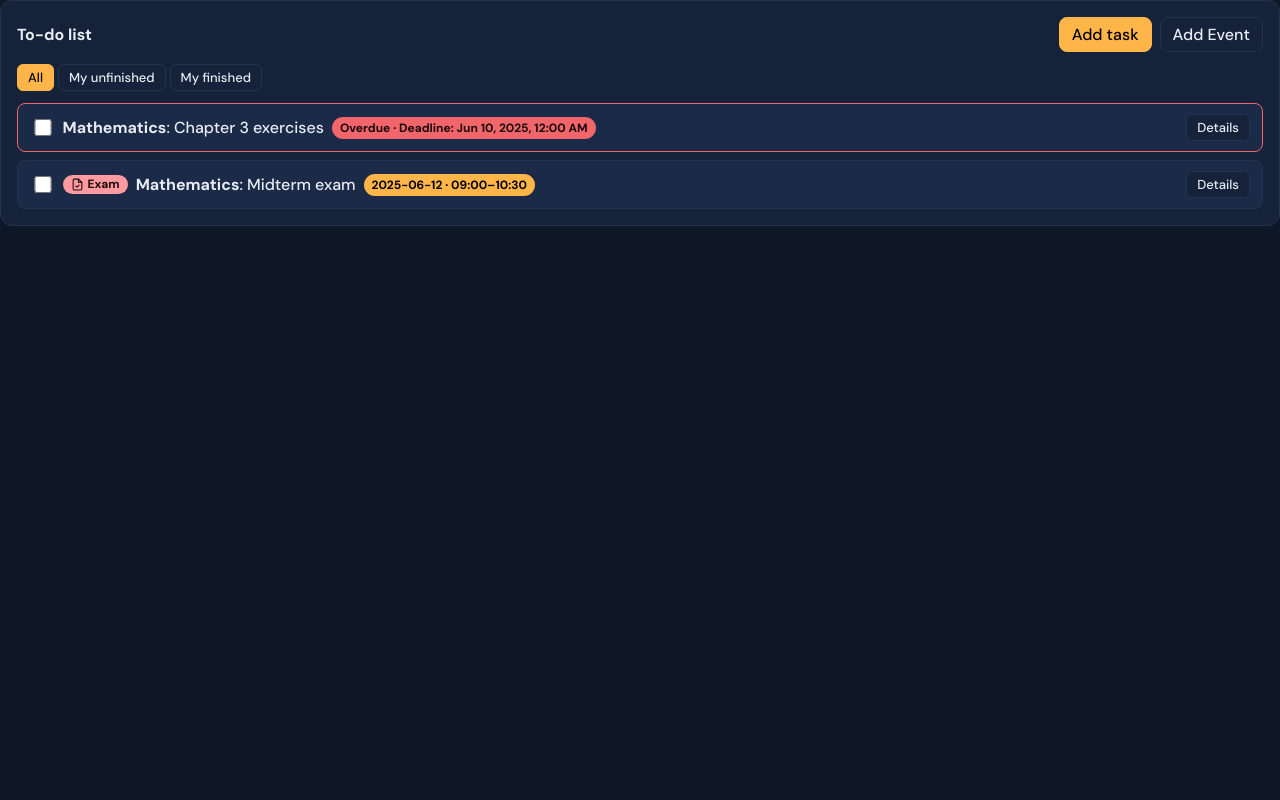
Scenario: TaskList officer-only controls › shows Add task and Add Event in the header, and Remove + status toggle inside the task popup for an officer
Expected: the button "Add task" is shown, [1059, 17, 1152, 52]
Expected: the button "Add Event" is shown, [1160, 17, 1263, 52]
Click the button with aria-label "Details for Mathematics: Chapter 3 exercises": (1218, 128) [1186, 114, 1250, 141]
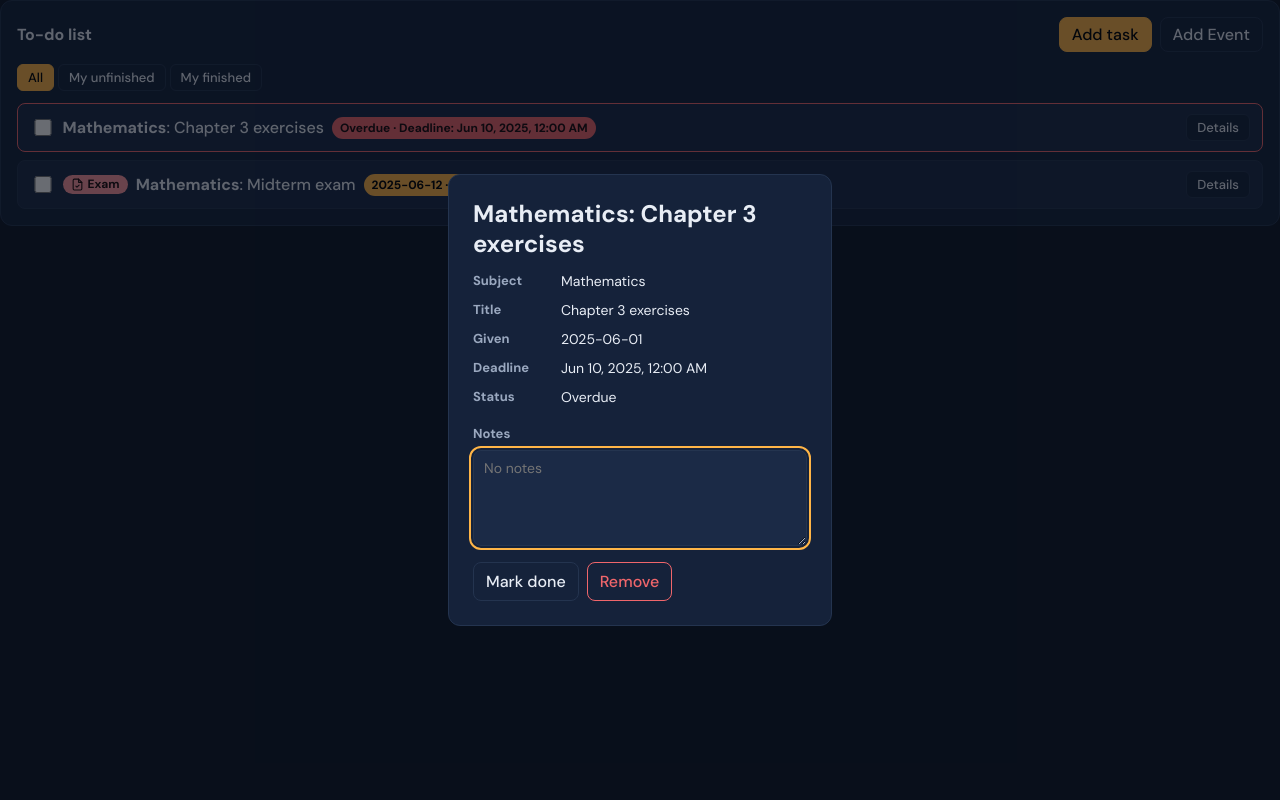
Now the button with aria-label "Remove Mathematics - Chapter 3" is shown, box [587, 562, 672, 601]
Now the button "Mark done" is shown, box [473, 562, 579, 601]
